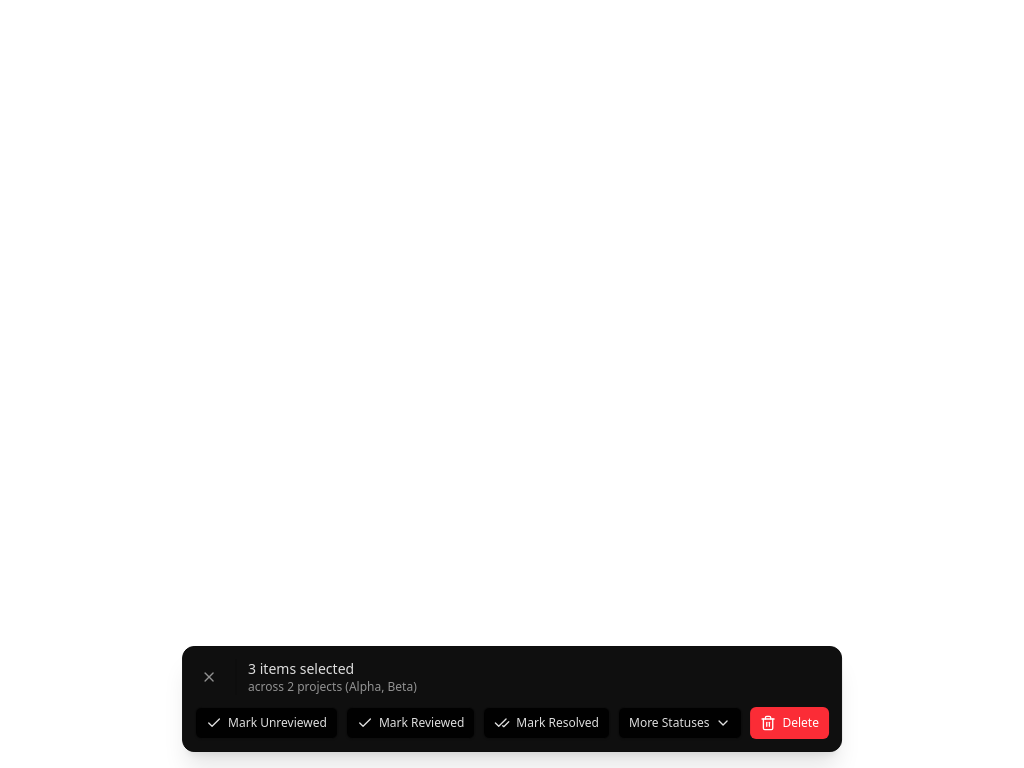
Test: BulkActionBar › delete confirmation modal › shows multi-project delete text when projectCount > 1
Click the button "Delete": (790, 723) left=750, top=707, right=829, bottom=739
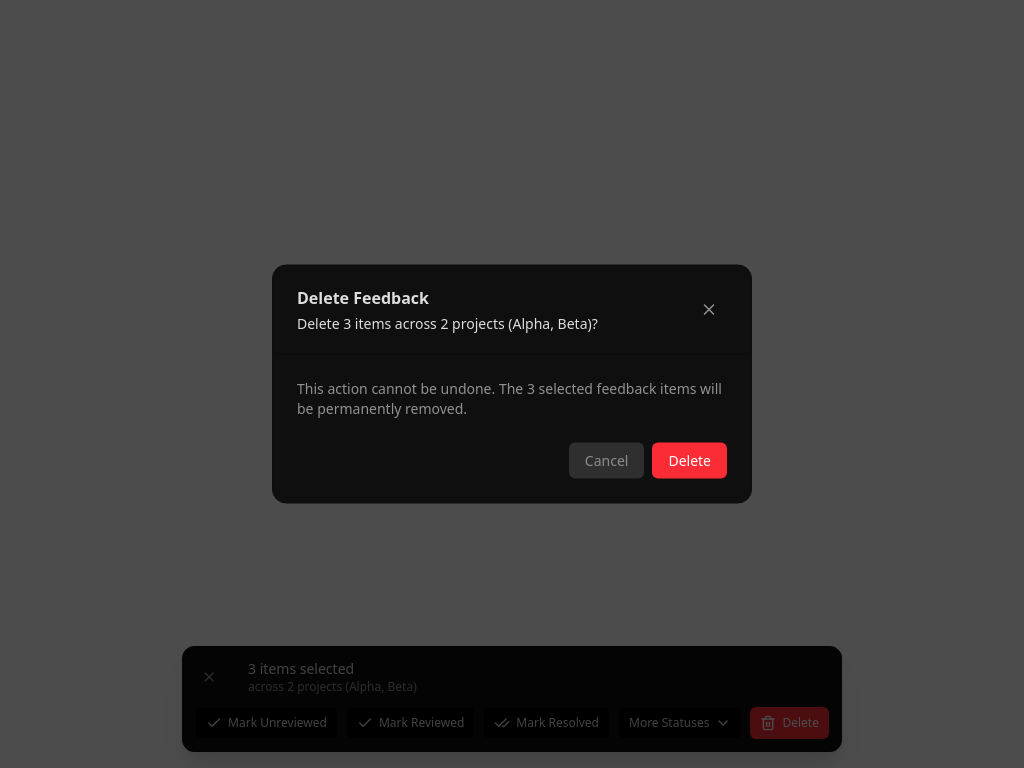
Check: the text "Delete 3 items across 2 projects (Alpha, Beta)?" is shown, box left=297, top=314, right=598, bottom=334
